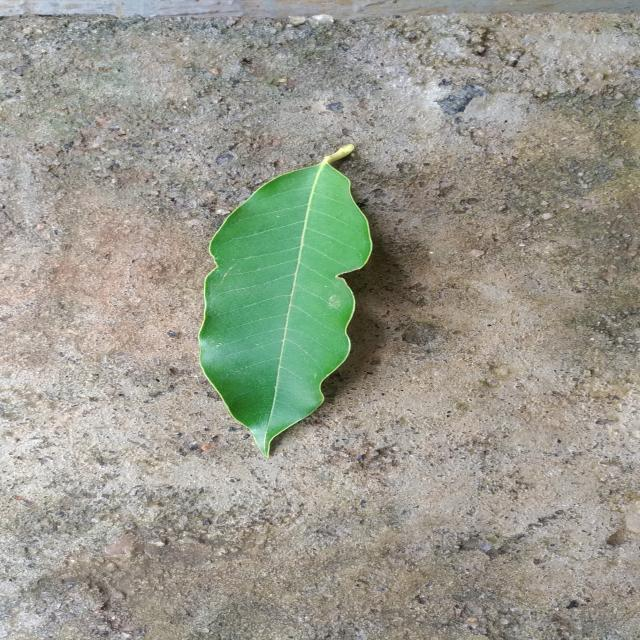coffee: (200, 146, 371, 455)
